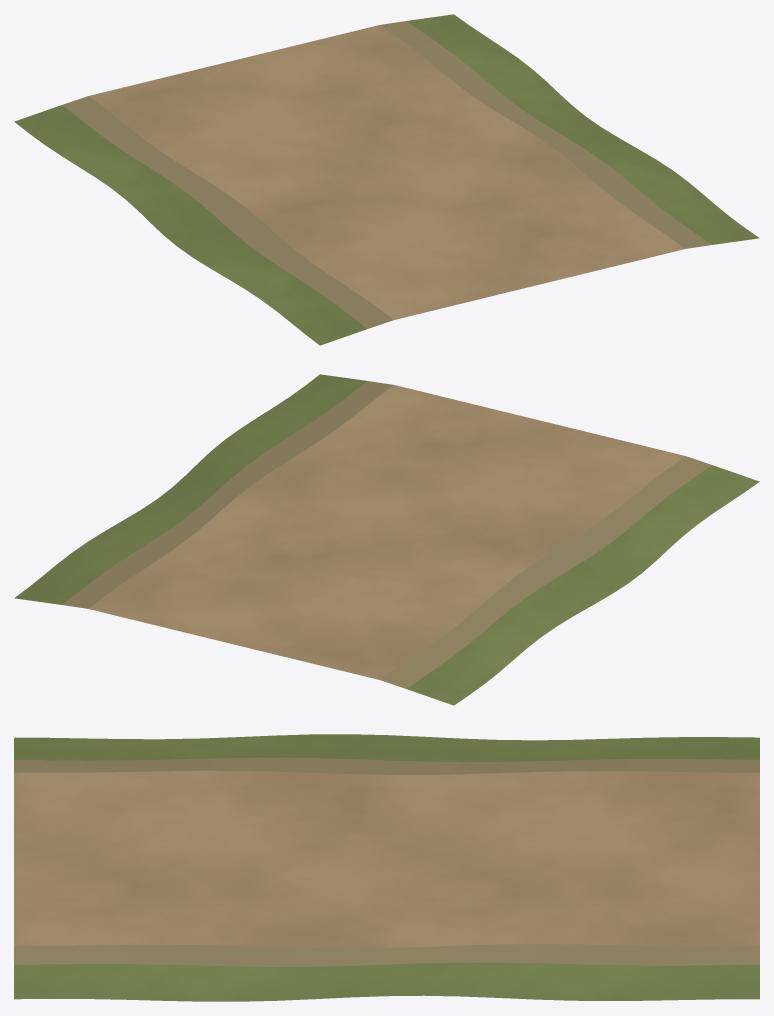
Rendered from path-straight-2m.glb.
The picture shows the model from 3 angles, top to bottom: view 1: azimuth 30°, elevation 25°; view 2: azimuth 150°, elevation 25°; view 3: azimuth 270°, elevation 25°; orthographic projection. The views are drawn at different scales.
Parts seen in each view (by area): view 1: path-straight-2m / N12 / ochre walking earth, path-straight-2m / N13 / meadow soil, path-straight-2m / N19 / dusty path edge; view 2: path-straight-2m / N12 / ochre walking earth, path-straight-2m / N13 / meadow soil, path-straight-2m / N19 / dusty path edge; view 3: path-straight-2m / N12 / ochre walking earth, path-straight-2m / N13 / meadow soil, path-straight-2m / N19 / dusty path edge.
Part boxes in pixels (x1,y1,x2,y2): path-straight-2m / N12 / ochre walking earth: [88, 25, 685, 319]; path-straight-2m / N13 / meadow soil: [14, 14, 759, 345]; path-straight-2m / N19 / dusty path edge: [62, 21, 711, 328]; path-straight-2m / N12 / ochre walking earth: [88, 385, 685, 679]; path-straight-2m / N13 / meadow soil: [14, 374, 759, 705]; path-straight-2m / N19 / dusty path edge: [62, 381, 711, 688]; path-straight-2m / N12 / ochre walking earth: [14, 770, 759, 948]; path-straight-2m / N13 / meadow soil: [14, 734, 759, 1001]; path-straight-2m / N19 / dusty path edge: [14, 757, 759, 966].
Size of the model in its own units: 1.7 by 0.027 by 2.
3 materials, 2 textured.
